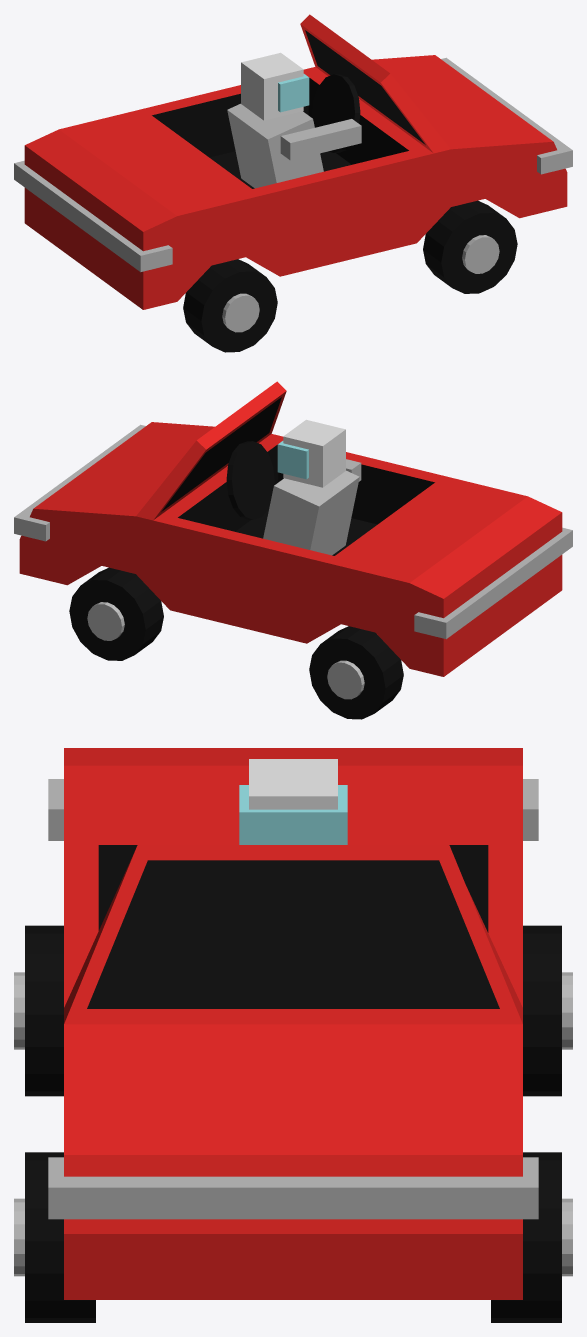
The model's file is playerModel.glb.
3 renders of one model, top to bottom at view 1: azimuth 30°, elevation 25°; view 2: azimuth 150°, elevation 25°; view 3: azimuth 270°, elevation 25°, orthographic. The views are drawn at different scales.
Parts seen in each view (by area): view 1: Cube, Cylinder, Cube.003, Cube.002, Cube.005, Cube.004, Cylinder.001, Cube.001, Cube.006; view 2: Cube, Cylinder, Cube.003, Cube.002, Cylinder.001, Cube.005, Cube.001, Cube.006; view 3: Cube, Cylinder, Cube.001, Cube.005, Cube.006, Cube.002.
Boxes of the visible parts, x1,y1,x2,y2 form: Cube: (24, 14, 567, 309); Cylinder: (183, 200, 517, 352); Cube.003: (227, 103, 323, 188); Cube.002: (14, 160, 172, 272); Cube.005: (241, 52, 303, 120); Cube.004: (280, 119, 361, 160); Cylinder.001: (312, 74, 360, 152); Cube.001: (441, 57, 572, 174); Cube.006: (278, 74, 309, 112); Cube: (19, 381, 562, 676); Cylinder: (69, 567, 403, 719); Cube.003: (263, 470, 359, 555); Cube.002: (414, 527, 572, 639); Cylinder.001: (226, 441, 274, 519); Cube.005: (283, 419, 345, 487); Cube.001: (14, 424, 145, 541); Cube.006: (277, 441, 308, 479); Cube: (64, 748, 522, 1299); Cylinder: (14, 925, 572, 1322); Cube.001: (48, 1157, 538, 1219); Cube.005: (249, 759, 337, 809); Cube.006: (239, 785, 347, 844); Cube.002: (48, 779, 538, 840).
Bounding box in the file's own units: 4.21 × 1.99 × 2.44.
